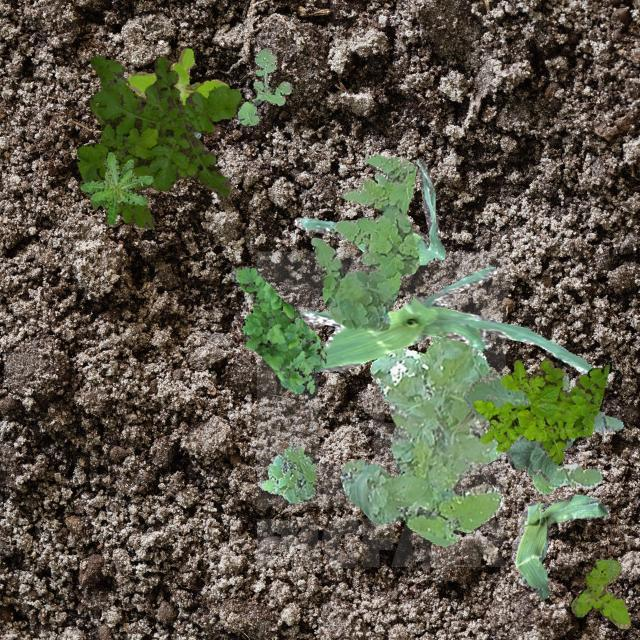crop: (298, 266, 592, 374), (294, 158, 444, 264), (510, 494, 608, 598), (504, 434, 574, 480)
weed: (338, 334, 502, 546), (76, 54, 240, 208), (462, 372, 622, 494), (310, 153, 418, 330), (472, 358, 608, 464), (230, 264, 326, 396), (90, 54, 154, 228), (128, 46, 226, 104), (78, 150, 152, 224), (236, 46, 290, 125), (570, 558, 630, 628), (260, 442, 316, 502), (192, 130, 200, 138)
